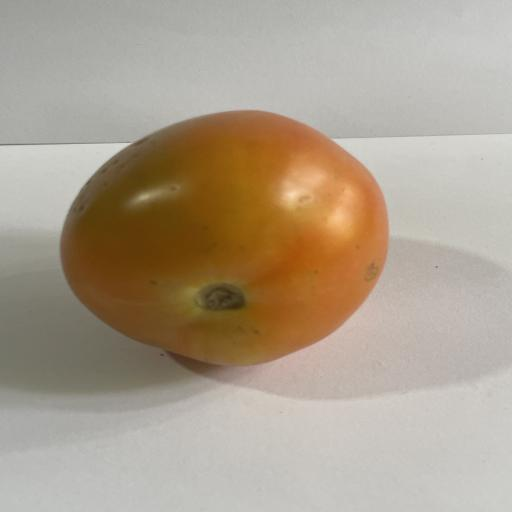unripe: (61, 111, 388, 366)
